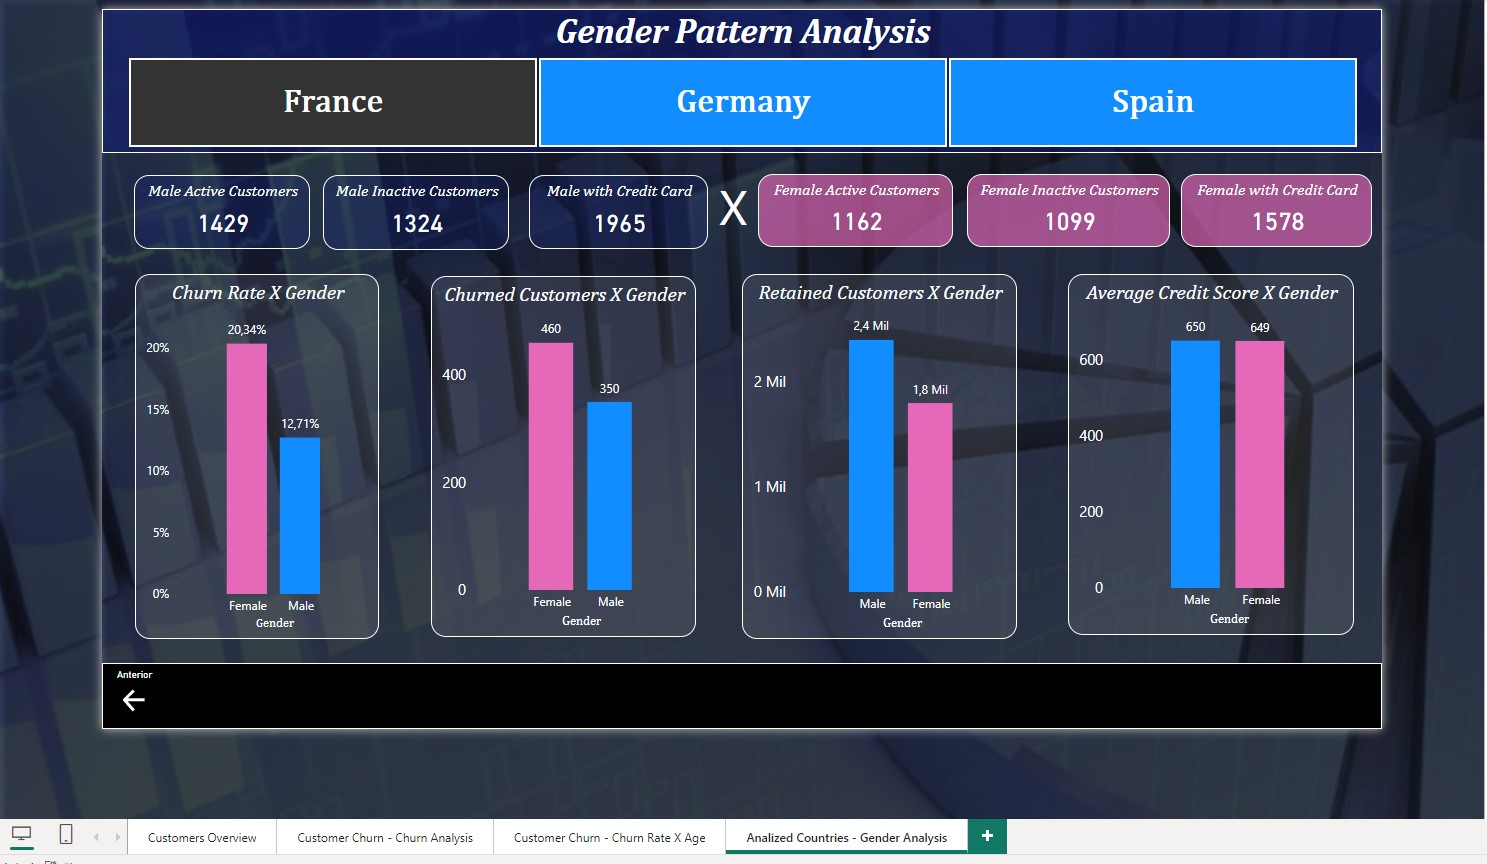

What the dashboard file says about the page in this screenshot:
{"tool":"powerbi","page":{"name":"Analized Countries - Gender Analysis","canvas":[1280,720],"ordinal":3},"visuals":[{"type":"slicer","title":"Gender Pattern Analysis","fields":{"Values":["Customer Churn Classification c.Geography"]},"box":[0,0,1280,144],"z":0},{"type":"card","title":"Male Active Customers","fields":{"Values":["Customer Churn.CountActiveMaleCustomers"]},"box":[32.4,166.5,175.7,73.1],"z":1000},{"type":"card","title":"Female Active Customers","fields":{"Values":["Customer Churn.CountActiveFemaleCustomers"]},"box":[656.4,165.5,194.5,72.7],"z":2000},{"type":"card","title":"Male Inactive Customers","fields":{"Values":["Customer Churn.CountInactiveMaleCustomers"]},"box":[221,165.5,185.9,75.8],"z":3000},{"type":"card","title":"Female Inactive Customers","fields":{"Values":["Customer Churn.CountInactiveFemaleCustomers"]},"box":[865.5,165.5,202.7,72.7],"z":4000},{"type":"card","title":"Female with Credit Card","fields":{"Values":["Sum(Customer Churn.HasCrCard)"]},"box":[1079.1,165.5,190.9,72.7],"z":5000},{"type":"card","title":"Male with Credit Card","fields":{"Values":["Sum(Customer Churn.HasCrCard)"]},"box":[427.3,166.5,178.5,73.1],"z":6000},{"type":"shape","box":[0,653.6,1280,66.4],"z":7000},{"type":"actionButton","title":"Anterior","box":[6.4,660,52.7,47.3],"z":8000},{"type":"columnChart","title":"Churn Rate X Gender","fields":{"Category":["Customer Churn.Gender"],"Y":["Customer Churn.ChurnRate"]},"box":[32.7,265.5,244.5,364.5],"z":9000},{"type":"columnChart","title":"Churned Customers X Gender","fields":{"Category":["Customer Churn.Gender"],"Y":["Customer Churn.CountChurnedCustomers"]},"box":[329.2,267.3,264.5,360.7],"z":10000},{"type":"columnChart","title":"Retained Customers X Gender","fields":{"Category":["Customer Churn.Gender"],"Y":["Customer Churn.CountRetainedCustomers"]},"box":[640,265.5,274.5,364.5],"z":11000},{"type":"textbox","box":[612.3,159.1,44.4,82.3],"z":12000},{"type":"columnChart","title":"Average Credit Score X Gender","fields":{"Category":["Customer Churn.Gender"],"Y":["Customer Churn.AverageCreditScore"]},"box":[966.5,265.4,285.8,360.7],"z":13000}]}

Visuals, with their boxes on the page's 1280x720 design canvas (x1, y1, x2, y2). These are canvas units, not pixel positions in the 1487x864 screenshot, which may show the page scaled, cropped or inside an application window:
"Gender Pattern Analysis" slicer: 0/0/1280/144
"Male Active Customers" card: 32/166/208/240
"Female Active Customers" card: 656/166/851/238
"Male Inactive Customers" card: 221/166/407/241
"Female Inactive Customers" card: 866/166/1068/238
"Female with Credit Card" card: 1079/166/1270/238
"Male with Credit Card" card: 427/166/606/240
shape: 0/654/1280/720
"Anterior" actionButton: 6/660/59/707
"Churn Rate X Gender" columnChart: 33/266/277/630
"Churned Customers X Gender" columnChart: 329/267/594/628
"Retained Customers X Gender" columnChart: 640/266/914/630
textbox: 612/159/657/241
"Average Credit Score X Gender" columnChart: 966/265/1252/626
